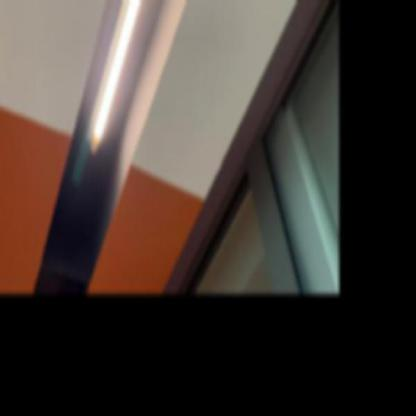light_on: (82, 0, 177, 160)
